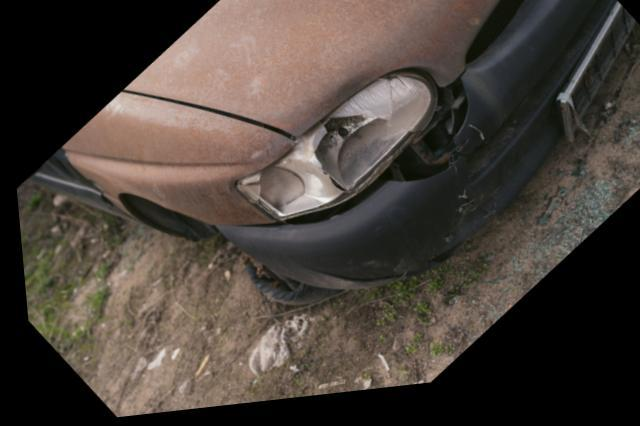lamp broken: (236, 80, 434, 226)
